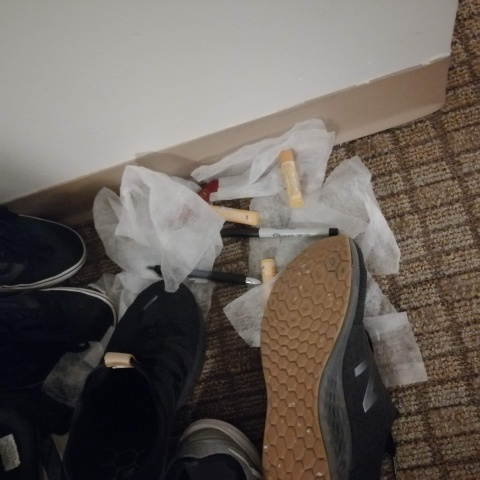chapstick: (278, 148, 304, 210), (207, 203, 260, 228), (260, 257, 277, 285)
